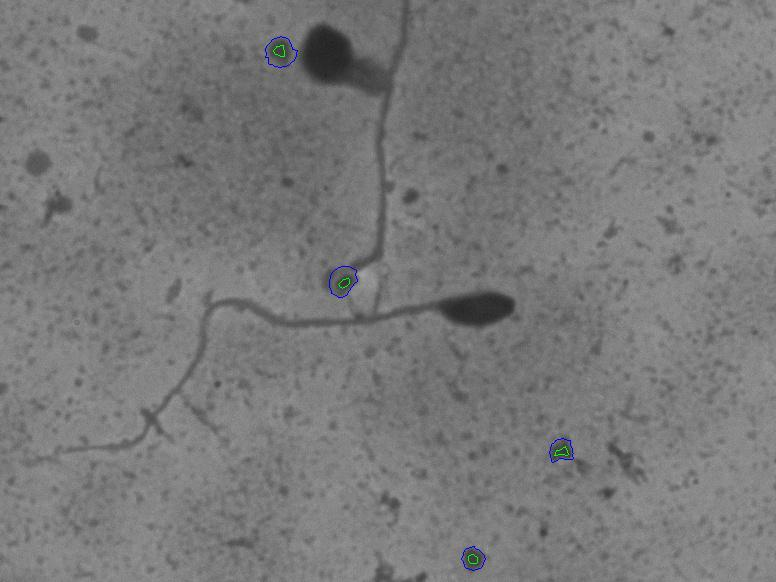Abnormal: (187, 283, 523, 380)
